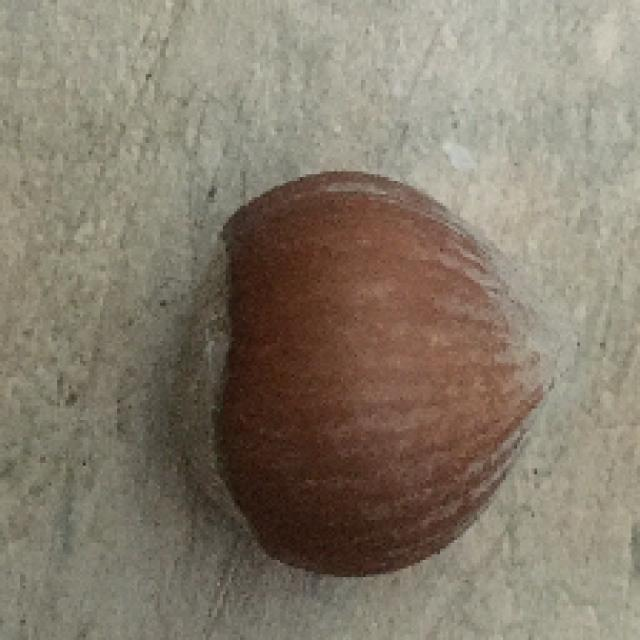QualityHazelnut: (173, 167, 587, 584)
